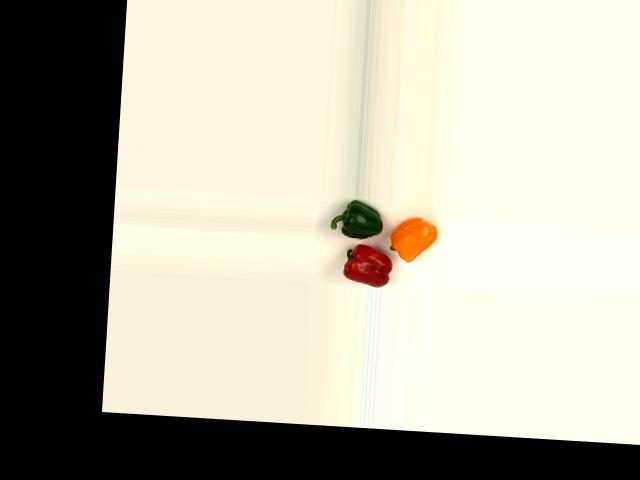bell_pepper: (327, 198, 384, 242)
